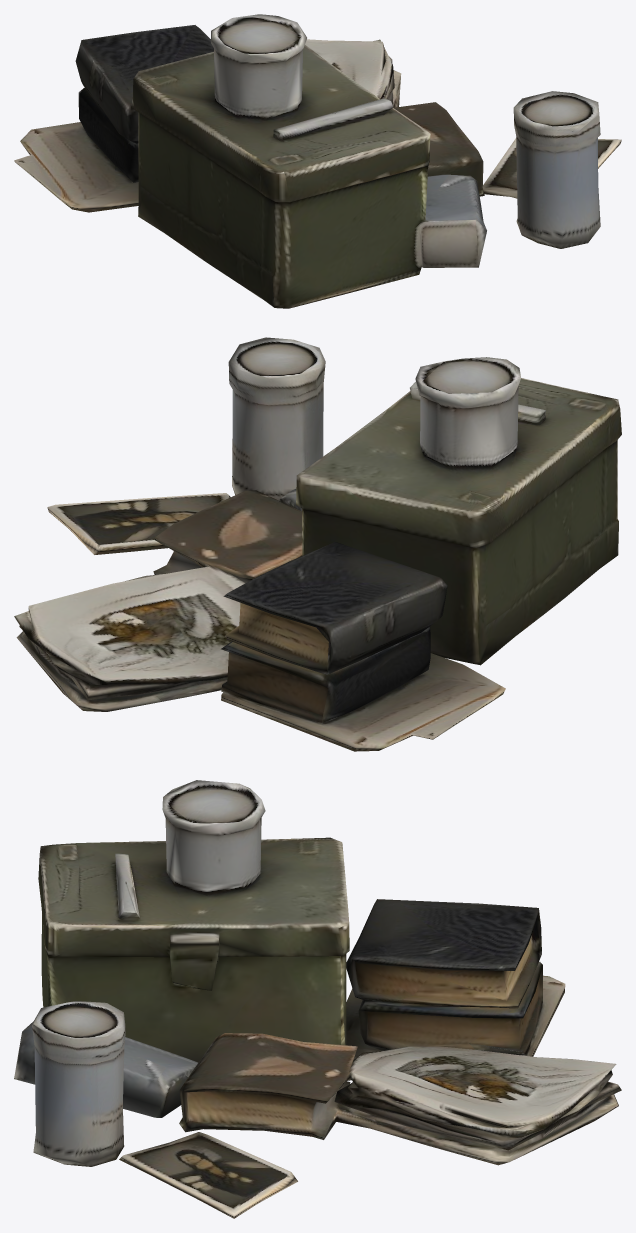
Rendered from tripo_convert_d74f6850-f119-4cdb-b167-9c3cdaa82ad1.fbx.
The picture shows the model from 3 angles, top to bottom: view 1: azimuth 30°, elevation 25°; view 2: azimuth 150°, elevation 25°; view 3: azimuth 270°, elevation 25°; orthographic projection. The views are drawn at different scales.
Visible parts, largest first — view 1: tripo_node_d74f6850; view 2: tripo_node_d74f6850; view 3: tripo_node_d74f6850.
Boxes of the visible parts, x1=… form: tripo_node_d74f6850: x1=14, y1=14, x2=621, y2=308; tripo_node_d74f6850: x1=14, y1=337, x2=621, y2=751; tripo_node_d74f6850: x1=14, y1=780, x2=621, y2=1218.
Size of the model in its own units: 0.9857 by 0.4112 by 1.
1 material, 1 textured.
